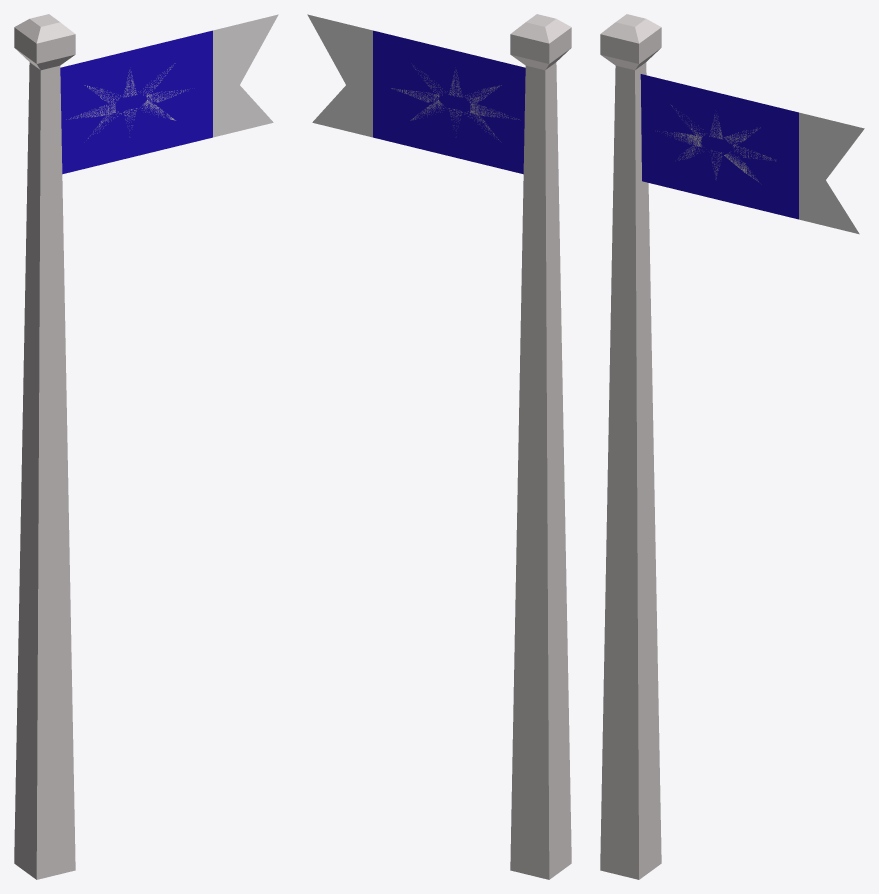
Rendered from obj_flagpole_1_0.obj.
3 renders of one model, left to right at view 1: azimuth 30°, elevation 25°; view 2: azimuth 150°, elevation 25°; view 3: azimuth 330°, elevation 25°, orthographic.
Size of the model in its own units: 0.8125 by 2.59 by 0.125.
